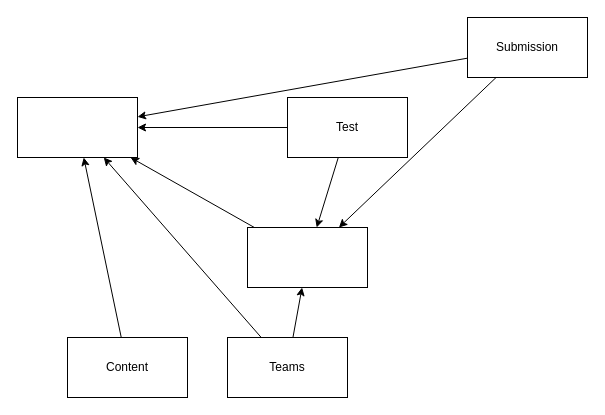
This 605x415 diagram has some shape labels left out. The box of each missing label's shape, as (x1, y1, x2, y2) in pixels:
keycloak: (16, 96, 138, 158)
User: (246, 226, 368, 288)
